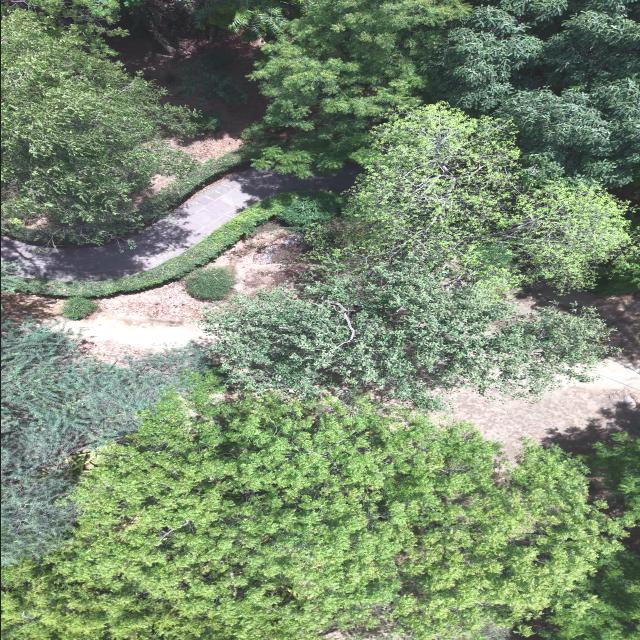DRY_AREA: (444, 289, 639, 459), (451, 288, 639, 458), (106, 0, 265, 160), (107, 1, 265, 158), (452, 360, 639, 458), (1, 281, 207, 356), (515, 286, 639, 367)
PATHWAYS: (1, 167, 357, 280)
VEGETATION_TREE: (1, 0, 639, 639), (3, 254, 624, 639), (2, 385, 621, 639), (207, 103, 628, 408), (17, 102, 629, 294), (248, 0, 634, 295), (174, 0, 639, 185), (248, 0, 639, 186), (248, 0, 639, 185), (3, 0, 259, 244), (206, 263, 613, 407), (315, 102, 629, 288), (1, 320, 201, 566), (1, 9, 196, 242), (423, 0, 639, 185), (251, 0, 469, 175), (3, 190, 334, 296), (3, 0, 248, 130), (520, 433, 639, 639), (144, 38, 265, 136), (139, 143, 254, 225), (537, 550, 639, 639), (6, 0, 128, 49), (586, 432, 639, 526), (593, 198, 639, 295), (194, 0, 312, 36), (171, 51, 247, 104), (595, 244, 639, 295), (275, 191, 337, 227), (183, 266, 236, 299), (62, 296, 96, 318), (1, 261, 22, 292), (477, 624, 510, 639), (193, 111, 219, 130)
